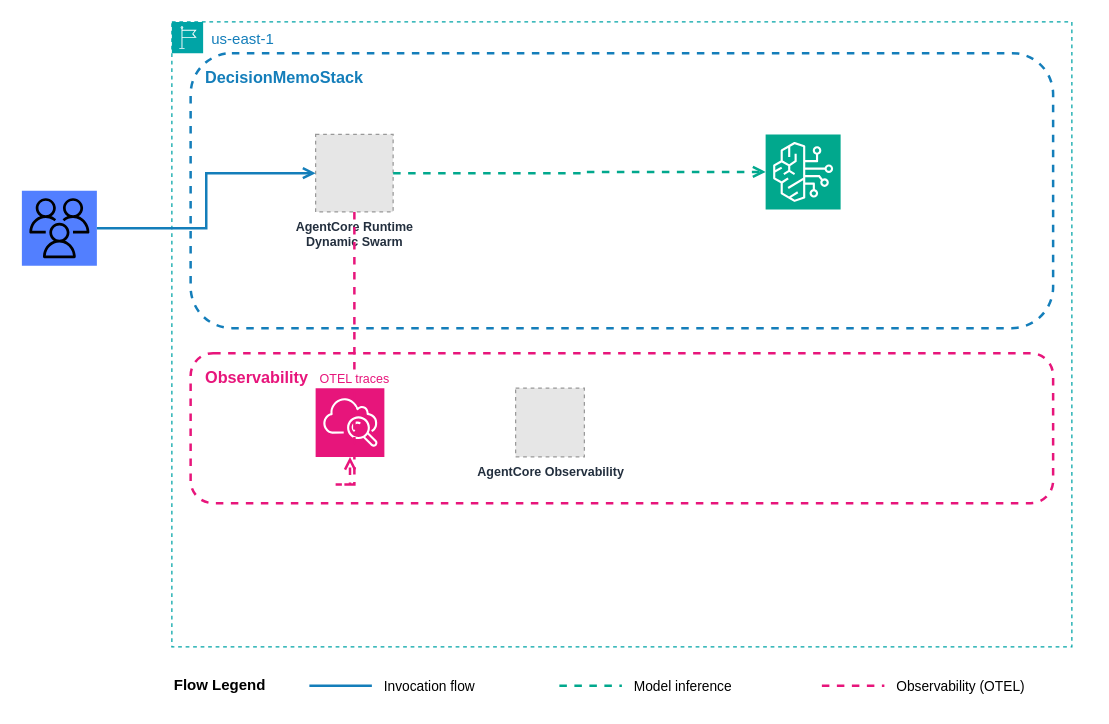
Some shapes in this 1109 by 724 pixel diagram are drawn without their labels. Grey dashed boxes stand in for pictures. The centre of each missing label's shape, as x and y in pixels:
"Amazon Bedrock" goes at point 802,171.
"Amazon CloudWatch" goes at point 349,422.
"User" goes at point 58,227.
